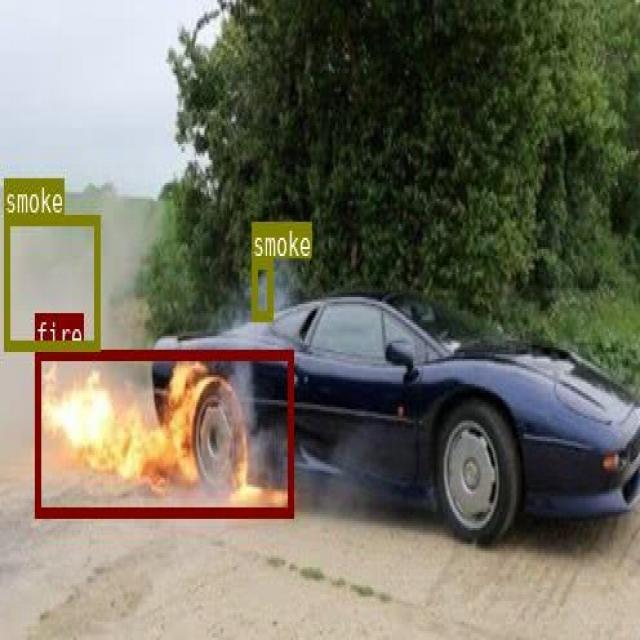fire: (34, 350, 293, 516)
smoke: (3, 213, 99, 349), (251, 258, 272, 319)
